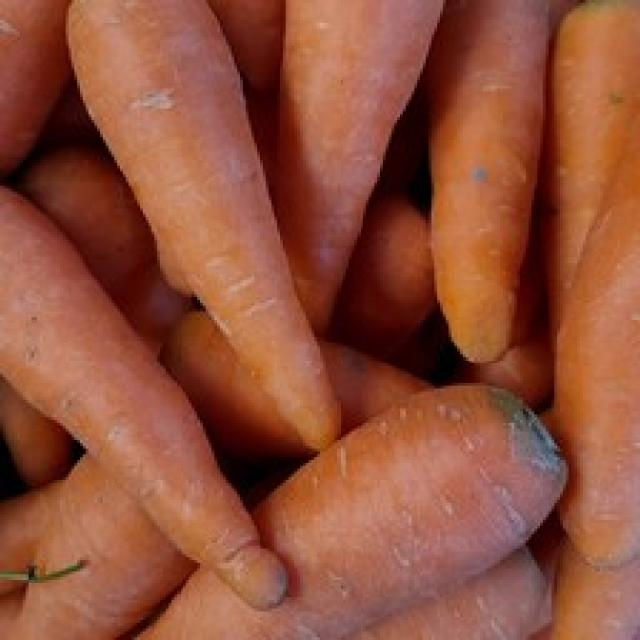Fresh_Carrot: (0, 170, 289, 582), (71, 2, 329, 457), (152, 382, 570, 640)
